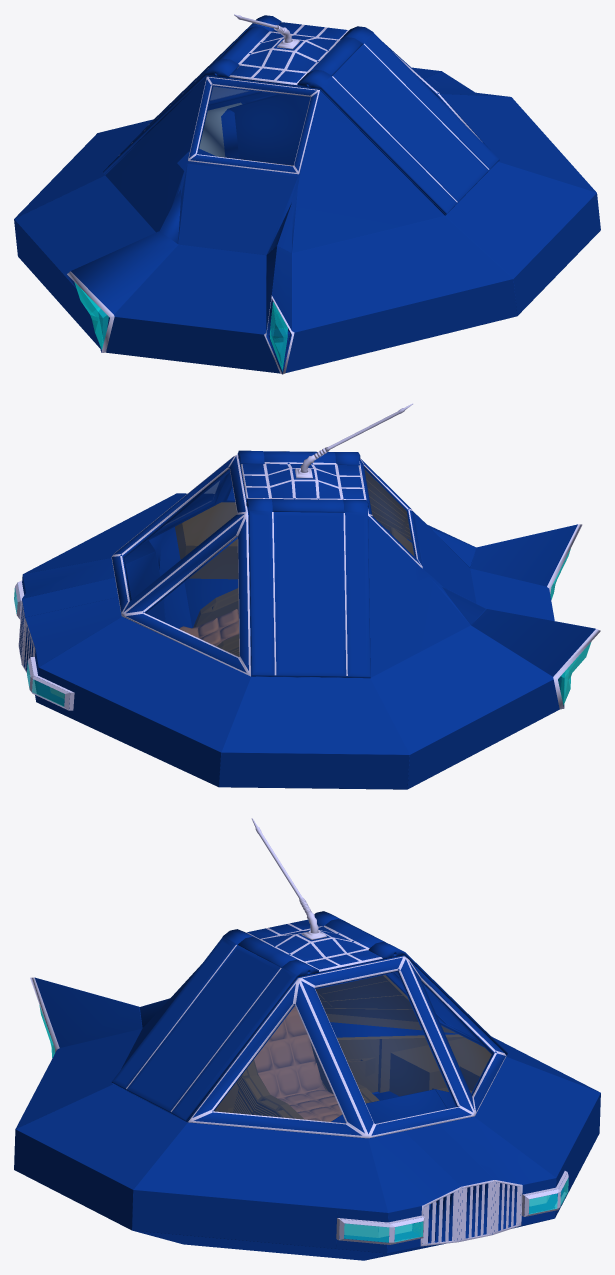
The model's file is lim1.fbx.
3 views of the same model, one above another, from view 1: azimuth 30°, elevation 25°; view 2: azimuth 150°, elevation 25°; view 3: azimuth 270°, elevation 25° (orthographic). The views are drawn at different scales.
Parts seen in each view (by area): view 1: octotoad1_m1, door2_m1, octotoad1_gl, octotoad1_m4, door1_m1, octotoad1_gl2, octotoad1_default, door2_m4; view 2: octotoad1_m1, door1_m1, octotoad1_gl, octotoad1_m4, octotoad1_m2, octotoad1_gl2, octotoad1_m3, door2_m1, door1_m4; view 3: octotoad1_m1, octotoad1_gl, door2_m1, octotoad1_m4, octotoad1_m2, octotoad1_m3, octotoad1_gl2, door1_m1, door2_m4.
Boxes of the visible parts, left/top/right/bottom form: octotoad1_m1: left=14, top=22, right=600, bottom=374; door2_m1: left=297, top=26, right=499, bottom=214; octotoad1_gl: left=197, top=85, right=439, bottom=165; octotoad1_m4: left=67, top=14, right=481, bottom=374; door1_m1: left=103, top=15, right=281, bottom=174; octotoad1_gl2: left=74, top=282, right=287, bottom=371; octotoad1_default: left=199, top=103, right=241, bottom=156; door2_m4: left=332, top=43, right=489, bottom=202; octotoad1_m1: left=19, top=451, right=595, bottom=789; door1_m1: left=246, top=498, right=370, bottom=677; octotoad1_gl: left=123, top=467, right=415, bottom=656; octotoad1_m4: left=14, top=403, right=600, bottom=710; octotoad1_m2: left=175, top=470, right=413, bottom=656; octotoad1_gl2: left=14, top=549, right=591, bottom=706; octotoad1_m3: left=179, top=609, right=238, bottom=645; door2_m1: left=237, top=450, right=360, bottom=465; door1_m4: left=272, top=512, right=347, bottom=675; octotoad1_m1: left=14, top=919, right=600, bottom=1260; octotoad1_gl: left=214, top=971, right=493, bottom=1123; door2_m1: left=111, top=929, right=318, bottom=1121; octotoad1_m4: left=30, top=818, right=568, bottom=1246; octotoad1_m2: left=215, top=975, right=491, bottom=1118; octotoad1_m3: left=254, top=1006, right=341, bottom=1121; octotoad1_gl2: left=39, top=1005, right=568, bottom=1242; door1_m1: left=314, top=911, right=507, bottom=1054; door2_m4: left=126, top=945, right=281, bottom=1111.
Bounding box in the file's own units: 5.45 × 3.21 × 5.03.
